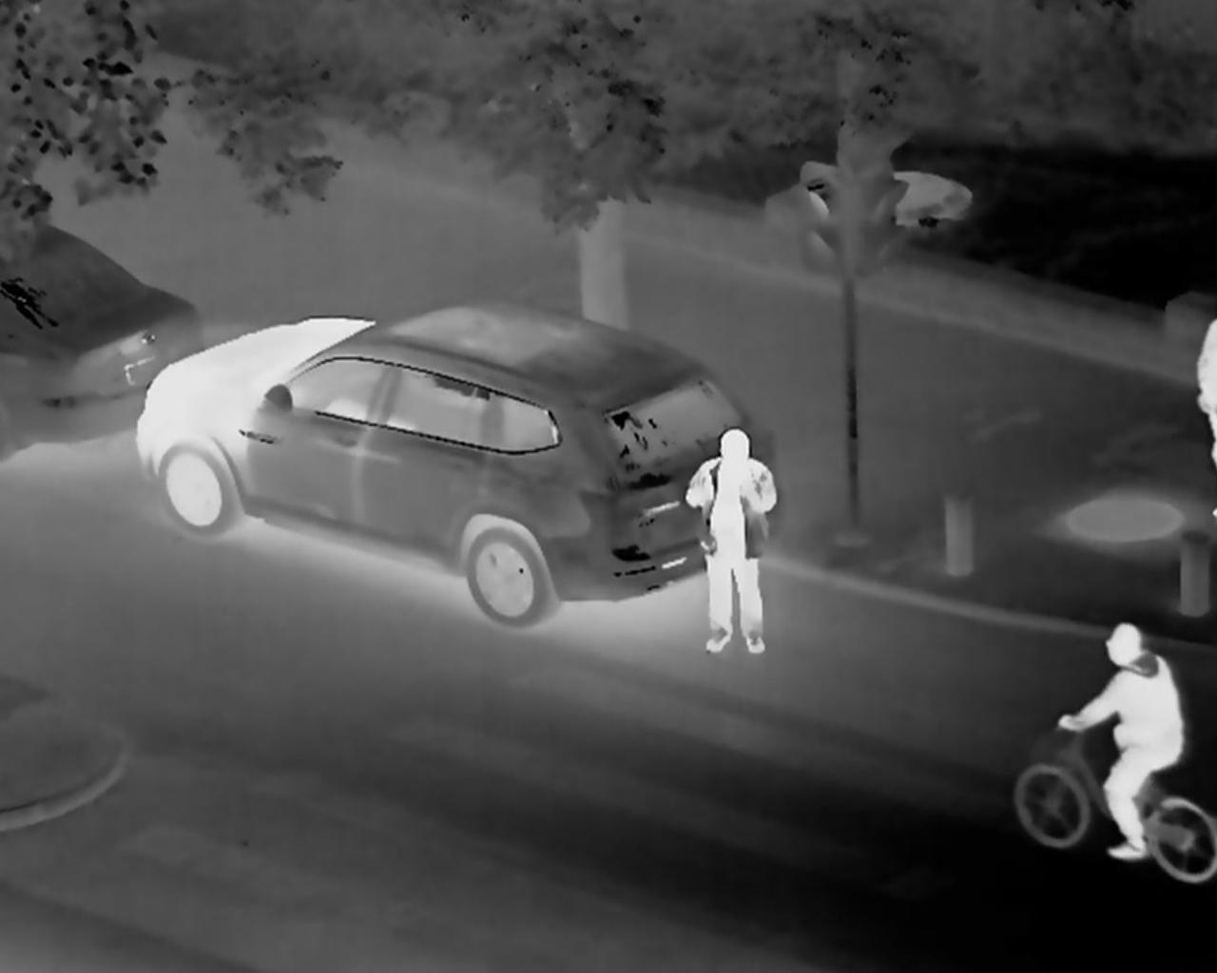person: (1056, 621, 1188, 860), (676, 423, 781, 655)
